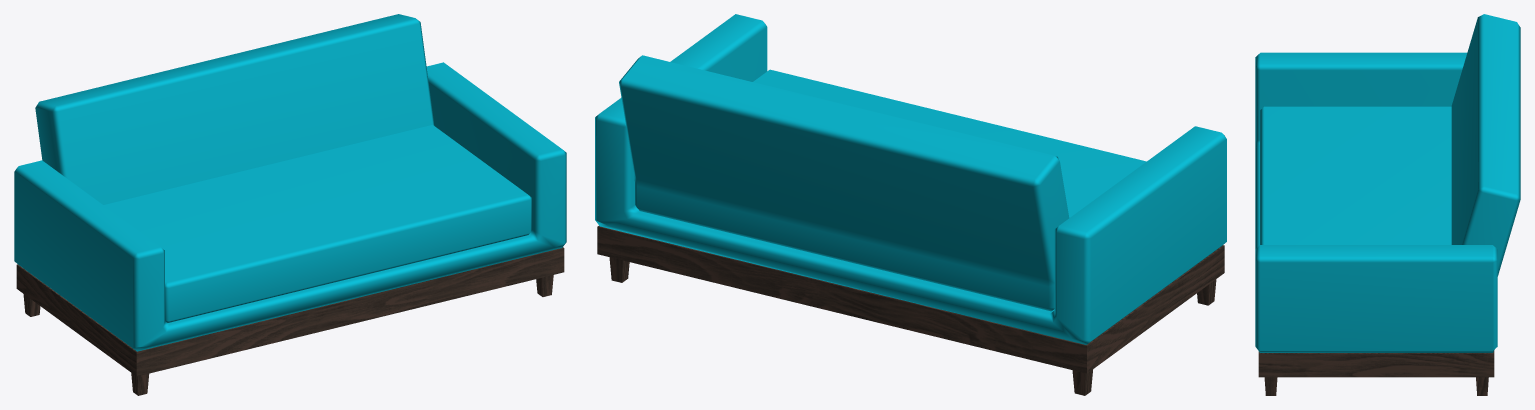
File: sofa_019.fbx
The picture shows the model from 3 angles, left to right: view 1: azimuth 30°, elevation 25°; view 2: azimuth 150°, elevation 25°; view 3: azimuth 270°, elevation 25°; orthographic projection. The views are drawn at different scales.
Parts seen in each view (by area): view 1: sofa_019; view 2: sofa_019; view 3: sofa_019.
Part boxes in pixels (box(x1,y1,x2,y2)): sofa_019: box(14, 14, 566, 395); sofa_019: box(595, 14, 1226, 395); sofa_019: box(1255, 14, 1520, 395).
Bounding box in the file's own units: 277 × 150 × 123.
